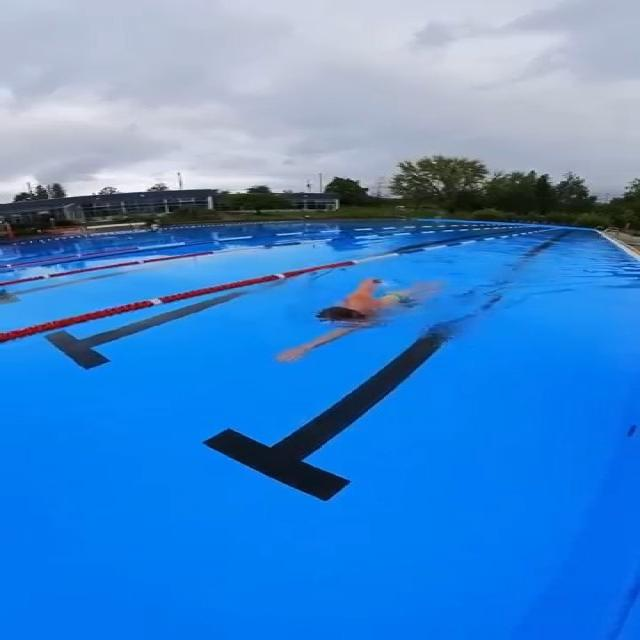Swimming: (262, 272, 455, 367)
